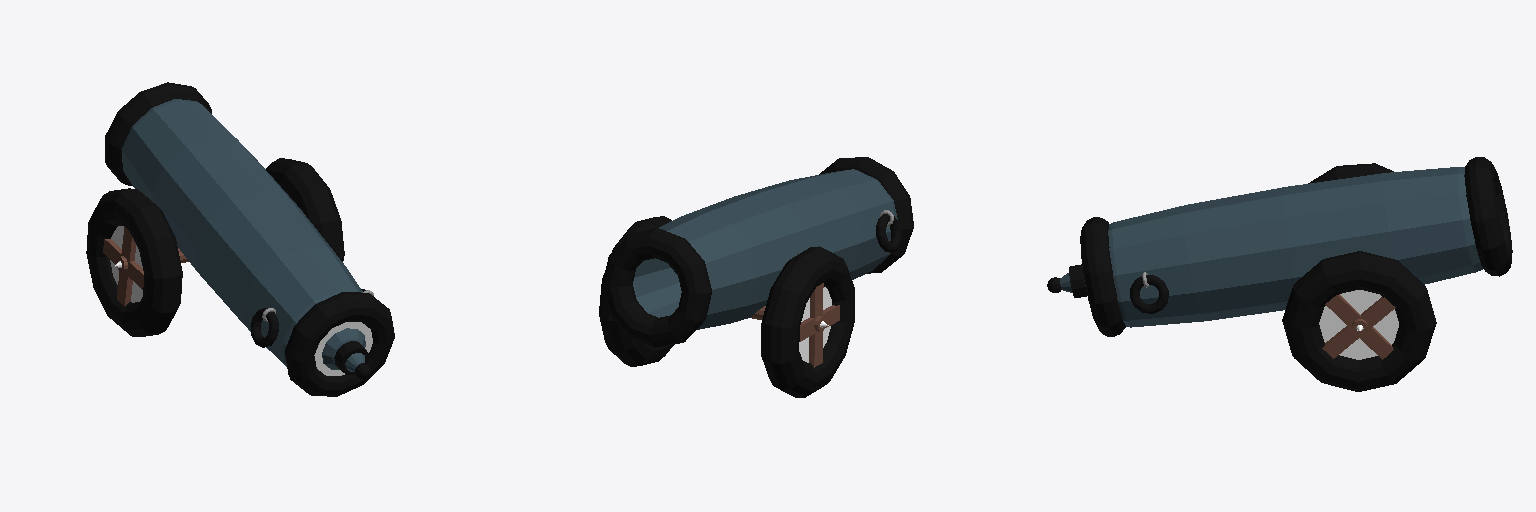
The model's file is canon.obj.
The picture shows the model from 3 angles: view 1: azimuth 30°, elevation 25°; view 2: azimuth 150°, elevation 25°; view 3: azimuth 270°, elevation 25°; orthographic projection.
Parts seen in each view (by area): view 1: mesh[number redacted], mesh[number redacted], mesh[number redacted], mesh[number redacted], mesh[number redacted], mesh[number redacted], mesh[number redacted], mesh[number redacted], mesh[number redacted], mesh[number redacted], mesh[number redacted], mesh[number redacted]; view 2: mesh[number redacted], mesh[number redacted], mesh[number redacted], mesh[number redacted], mesh[number redacted], mesh[number redacted], mesh[number redacted], mesh[number redacted], mesh[number redacted]; view 3: mesh[number redacted], mesh[number redacted], mesh[number redacted], mesh[number redacted], mesh[number redacted], mesh[number redacted], mesh[number redacted], mesh[number redacted], mesh[number redacted].
Part boxes in pixels (x1,y1,x2,y2): mesh[number redacted]: (121,99,362,366); mesh[number redacted]: (86,188,182,336); mesh[number redacted]: (285,292,394,396); mesh[number redacted]: (266,158,344,261); mesh[number redacted]: (105,82,211,185); mesh[number redacted]: (314,322,372,375); mesh[number redacted]: (322,328,365,369); mesh[number redacted]: (117,226,135,306); mesh[number redacted]: (250,308,278,347); mesh[number redacted]: (103,239,143,289); mesh[number redacted]: (110,226,142,302); mesh[number redacted]: (334,341,368,374); mesh[number redacted]: (633,169,897,329); mesh[number redacted]: (761,246,854,397); mesh[number redacted]: (602,228,711,347); mesh[number redacted]: (599,216,673,366); mesh[number redacted]: (819,157,913,273); mesh[number redacted]: (809,283,823,367); mesh[number redacted]: (876,214,900,252); mesh[number redacted]: (800,305,839,341); mesh[number redacted]: (799,287,831,362); mesh[number redacted]: (1108,167,1482,327); mesh[number redacted]: (1282,251,1436,391); mesh[number redacted]: (1464,157,1512,276); mesh[number redacted]: (1080,217,1125,336); mesh[number redacted]: (1319,290,1398,359); mesh[number redacted]: (1322,297,1395,358); mesh[number redacted]: (1325,294,1393,359); mesh[number redacted]: (1130,275,1168,313); mesh[number redacted]: (1308,163,1393,183).
Size of the model in its own units: 0.2874 by 0.2608 by 0.5713.